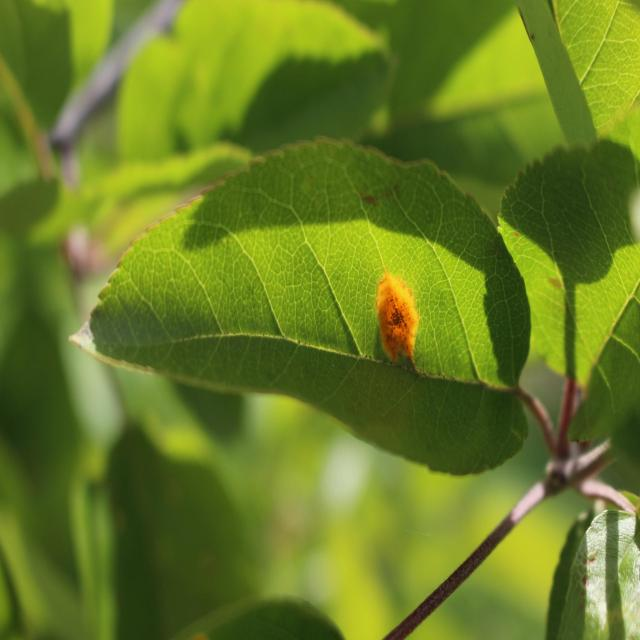Rust: (352, 253, 433, 389)
